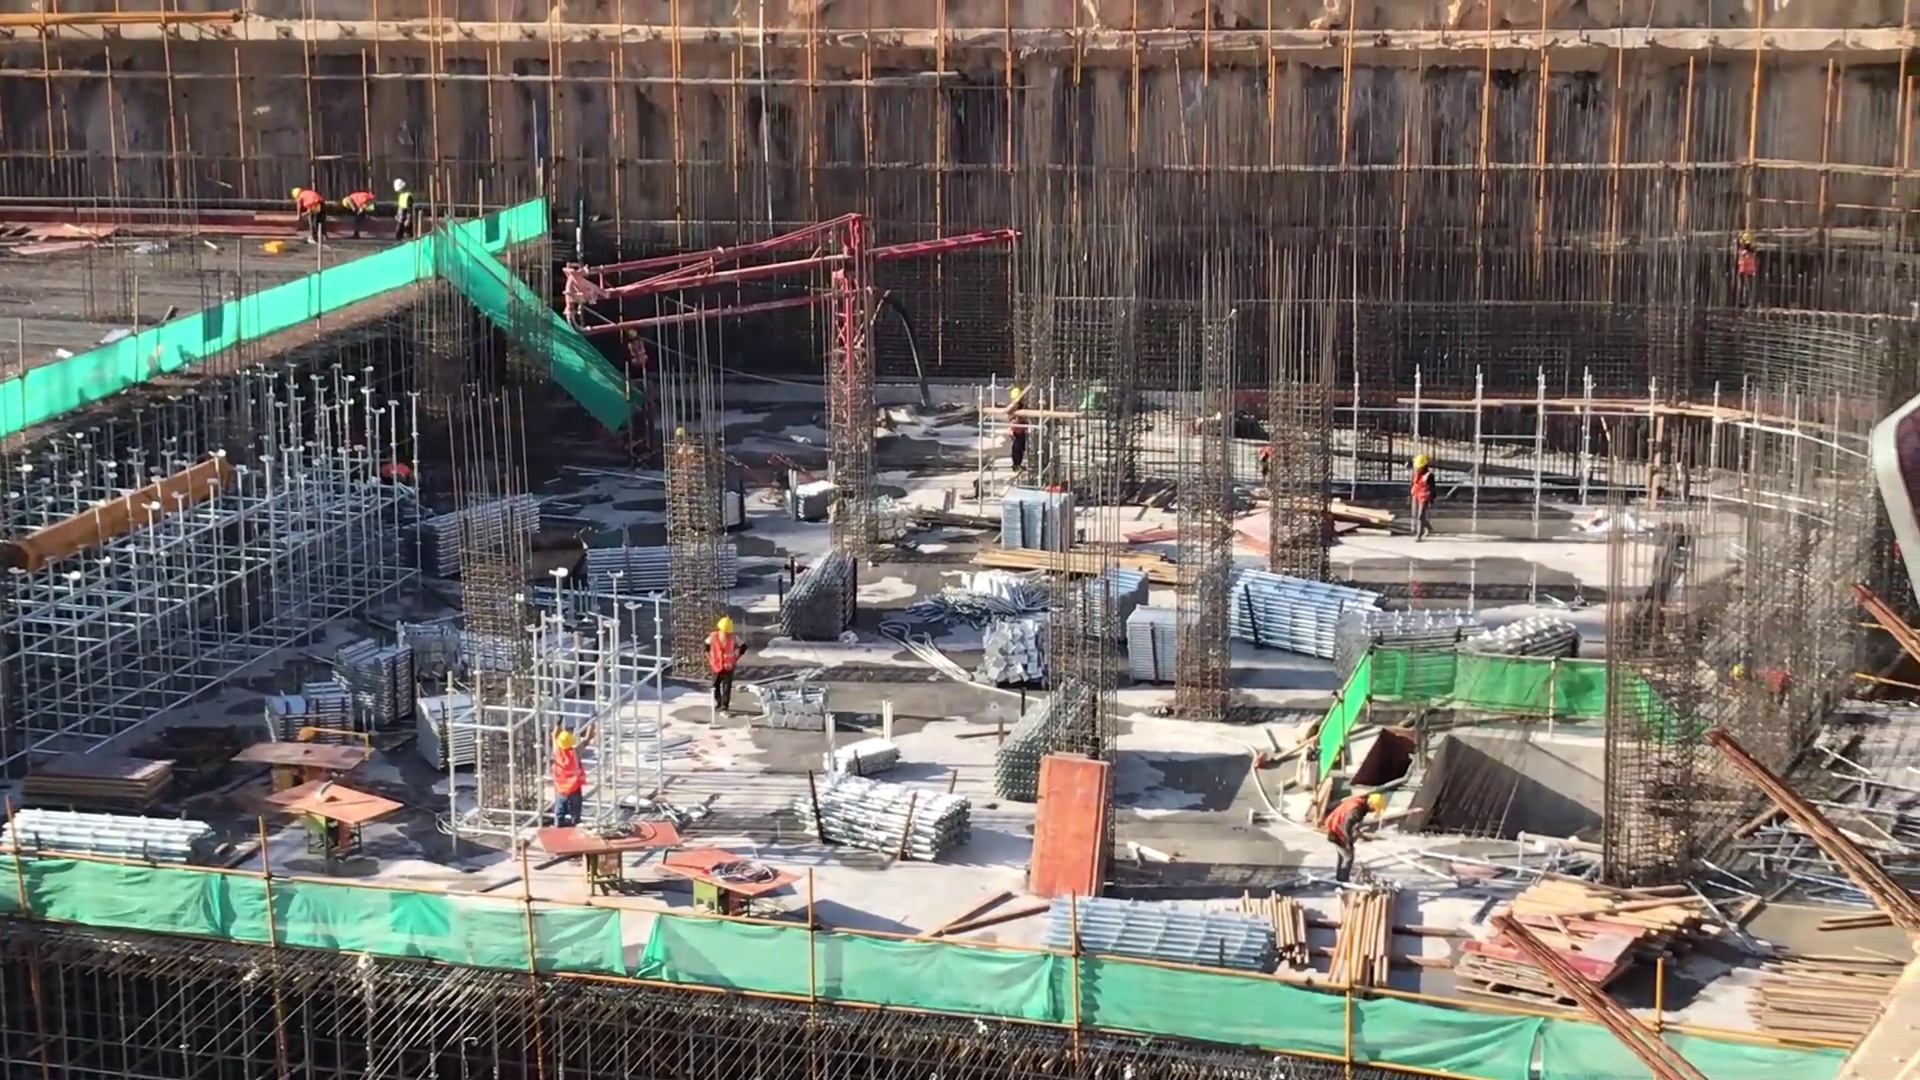board: (1449, 903, 1650, 988), (1023, 744, 1113, 898), (22, 752, 182, 809)
cutter: (254, 773, 421, 868), (657, 841, 813, 919), (530, 816, 689, 892), (224, 738, 377, 796)
helmet: (547, 728, 579, 754), (1365, 787, 1392, 816), (714, 617, 741, 642), (1002, 382, 1030, 405), (391, 172, 411, 195), (1407, 457, 1435, 472)
person: (1319, 789, 1392, 887), (543, 711, 596, 845), (699, 615, 751, 720), (284, 179, 332, 254), (1403, 452, 1440, 550), (388, 168, 425, 264), (340, 183, 381, 253), (619, 315, 660, 382), (1007, 385, 1032, 482)
scaffold: (1027, 891, 1294, 988), (797, 777, 993, 880), (1218, 573, 1393, 676), (1344, 594, 1487, 712), (1, 812, 236, 879), (1459, 607, 1581, 724), (413, 491, 543, 591), (572, 542, 754, 603), (769, 557, 875, 652), (261, 678, 366, 764), (406, 698, 508, 780), (1065, 569, 1140, 648), (347, 634, 404, 727)
vest: (1325, 795, 1366, 847), (554, 748, 586, 800), (705, 631, 743, 676), (1405, 471, 1435, 504), (395, 191, 415, 228), (624, 340, 649, 368), (348, 189, 374, 214), (297, 189, 323, 212)
wood: (1747, 951, 1920, 1058)
